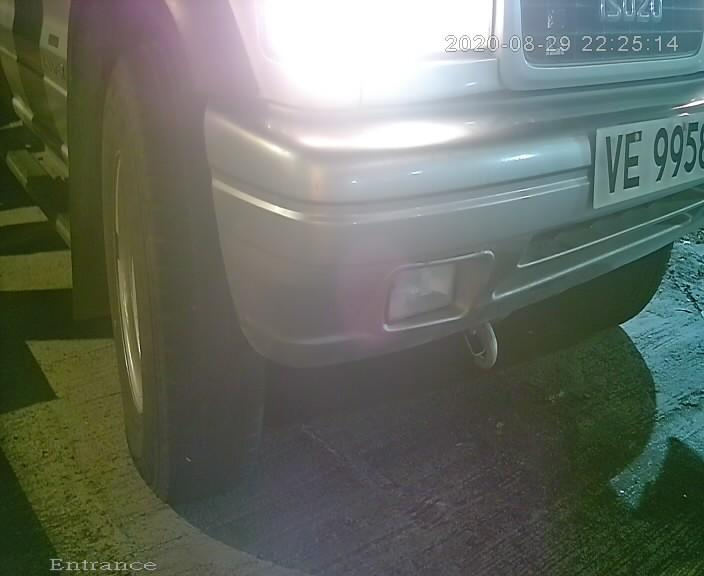License Plate: (560, 93, 689, 222)
